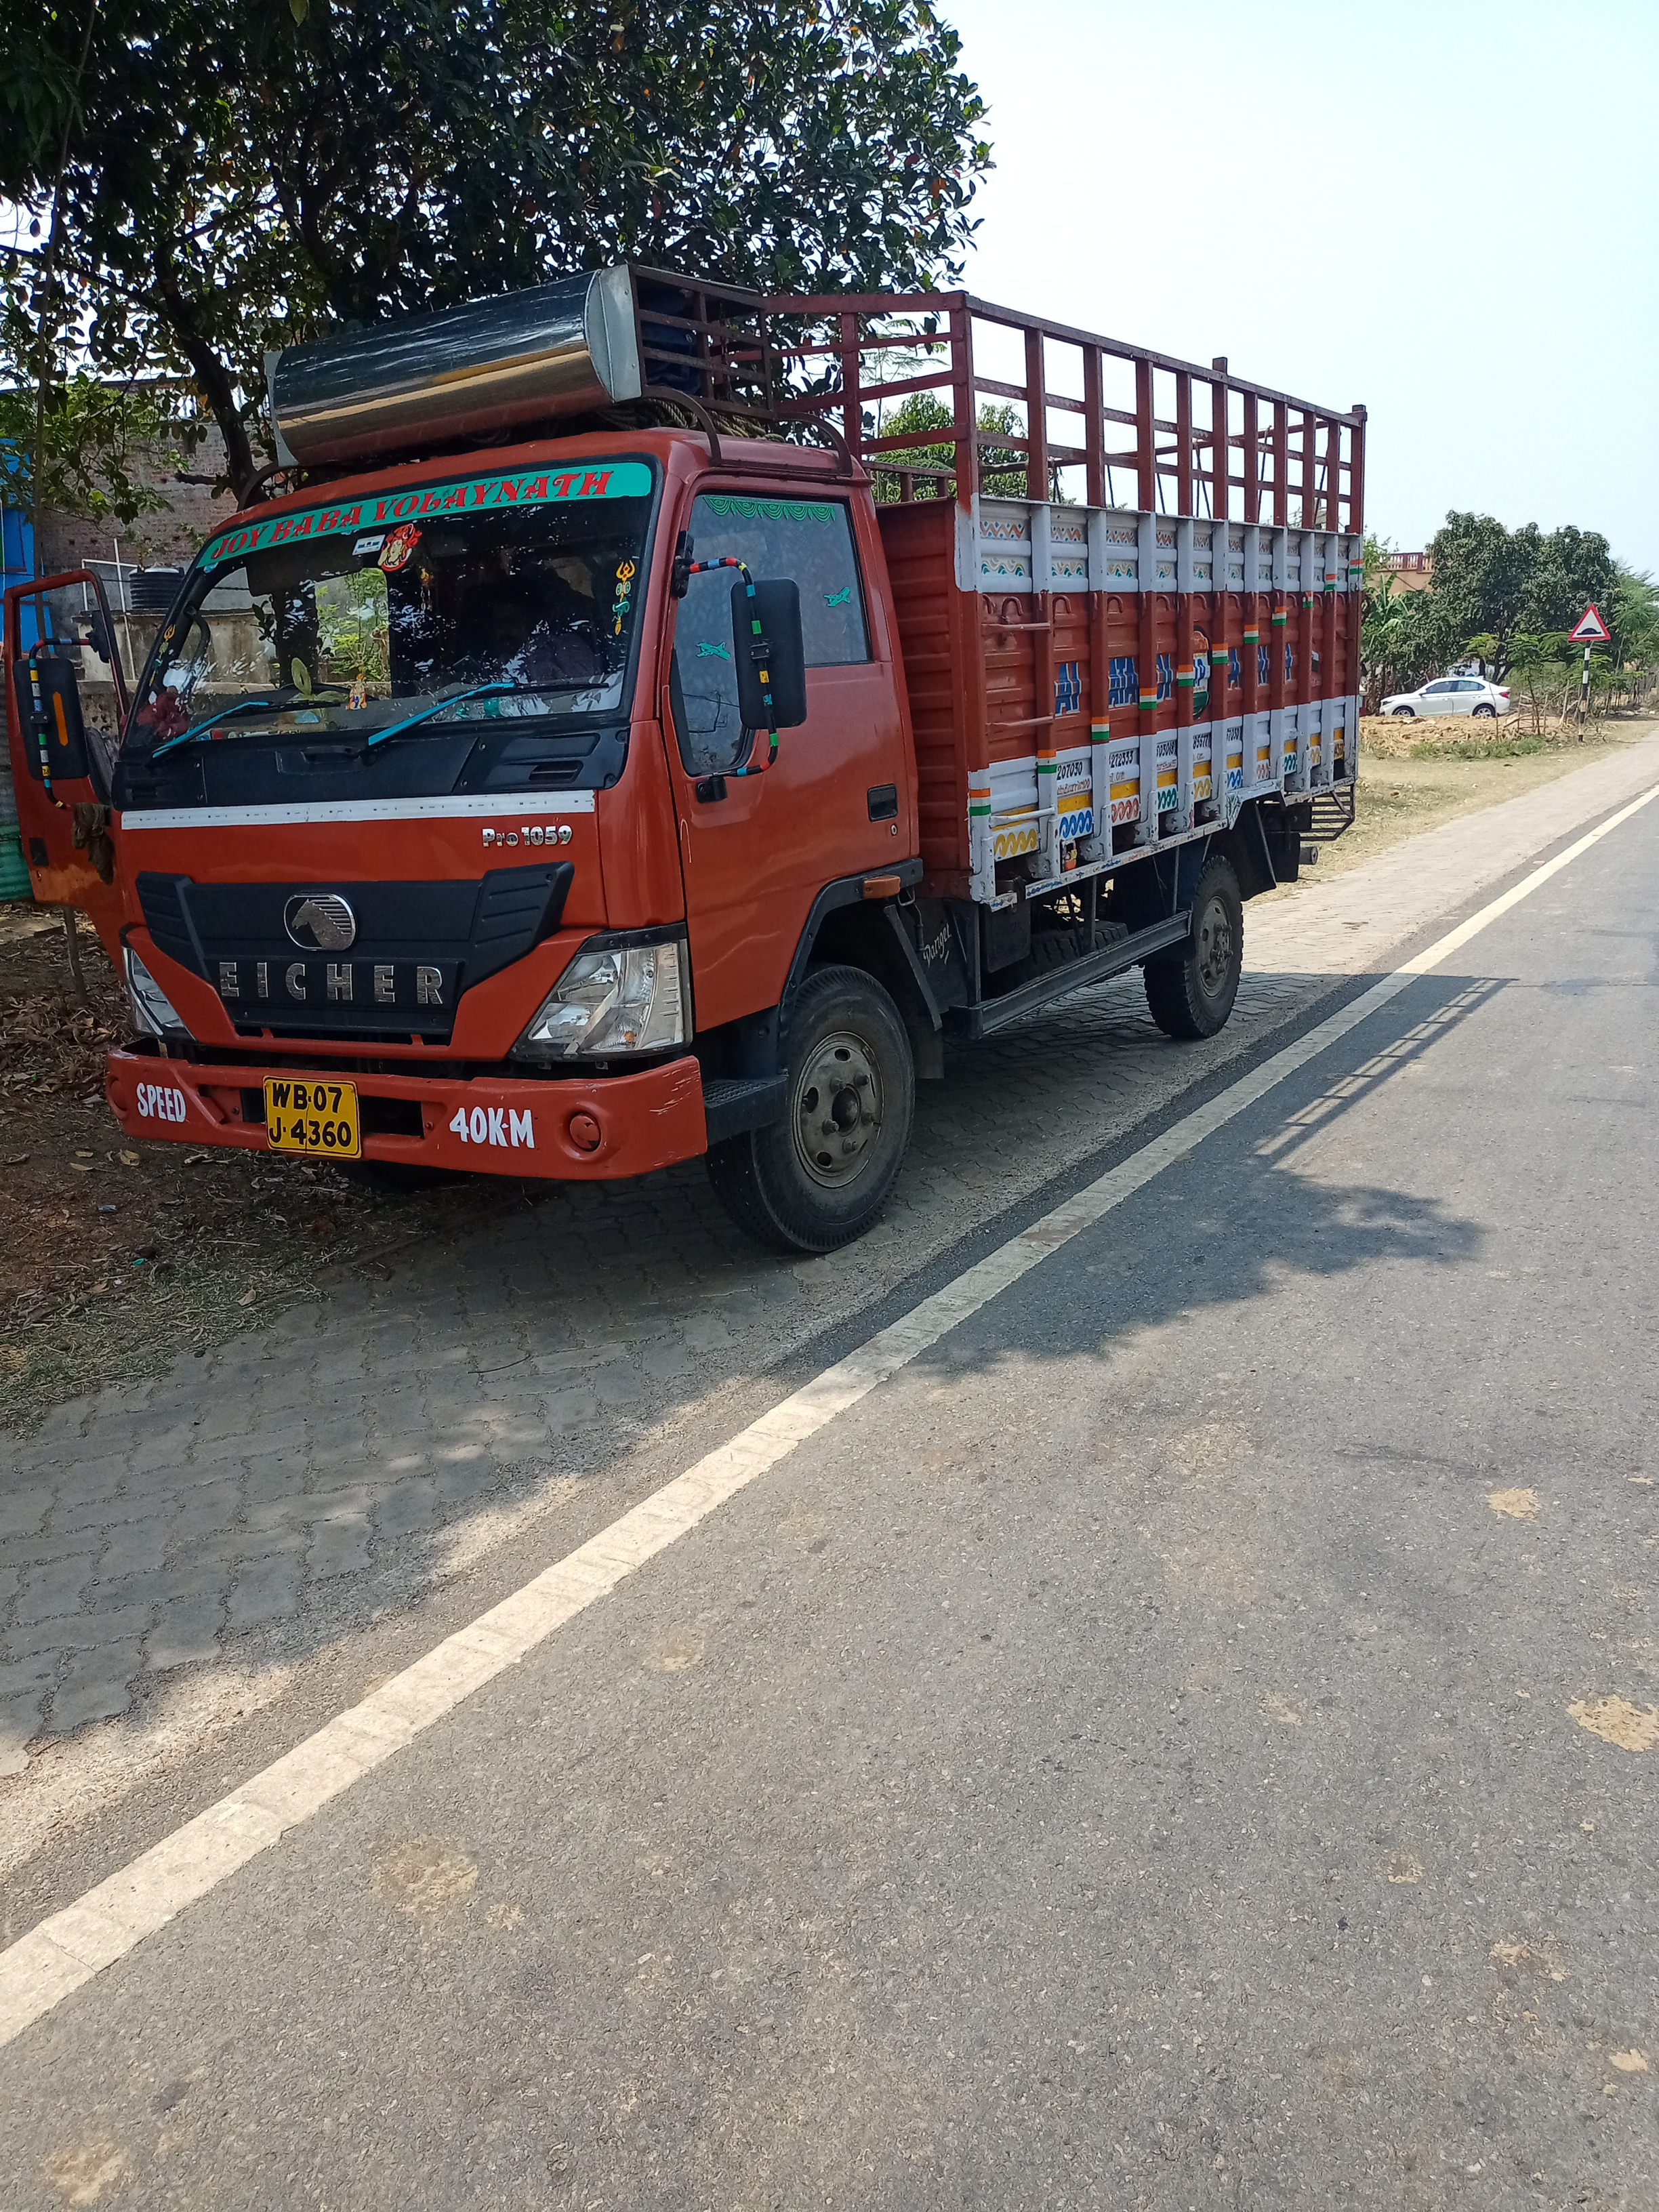truck: (0, 254, 1370, 1264)
